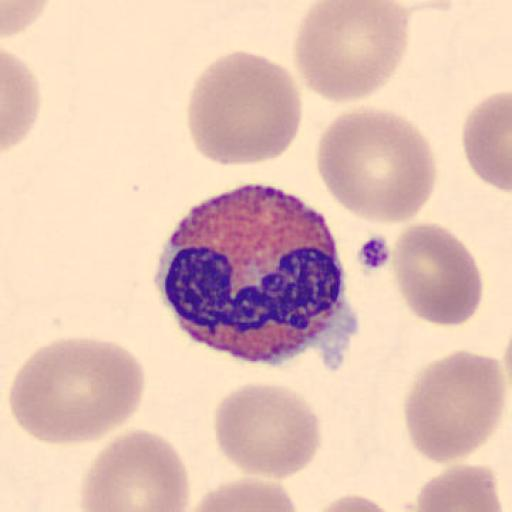RBC: (7, 334, 147, 447), (316, 104, 439, 225), (186, 48, 304, 168), (292, 0, 410, 103), (402, 348, 506, 463), (212, 382, 324, 480), (390, 221, 484, 328), (78, 429, 192, 512), (461, 90, 512, 194), (414, 462, 504, 512), (2, 48, 42, 154), (185, 476, 299, 512), (1, 0, 52, 38), (310, 492, 404, 512), (382, 0, 465, 11)
WBC: (158, 178, 354, 366)
